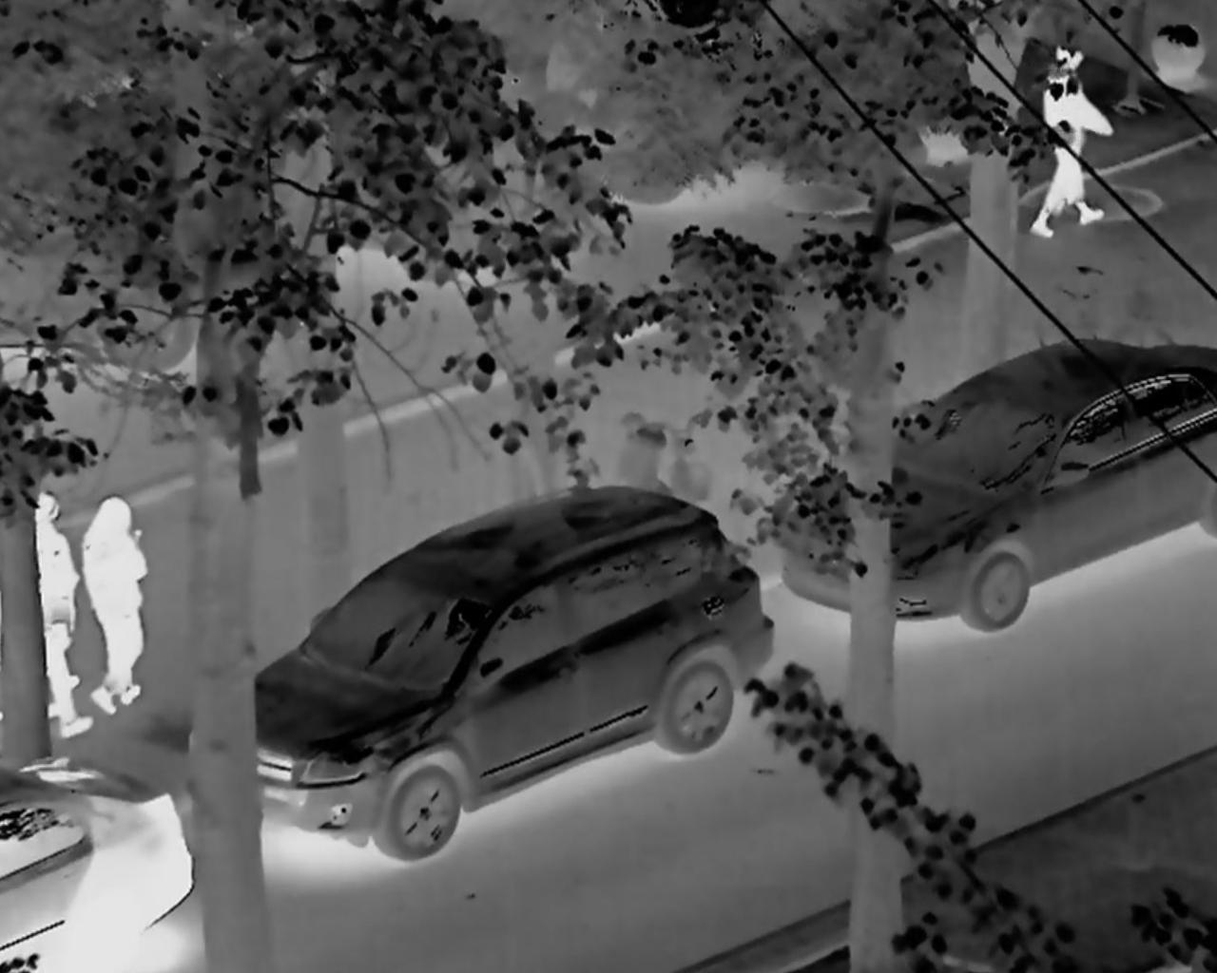person: (1016, 30, 1135, 249), (63, 487, 158, 713), (26, 486, 84, 742)
